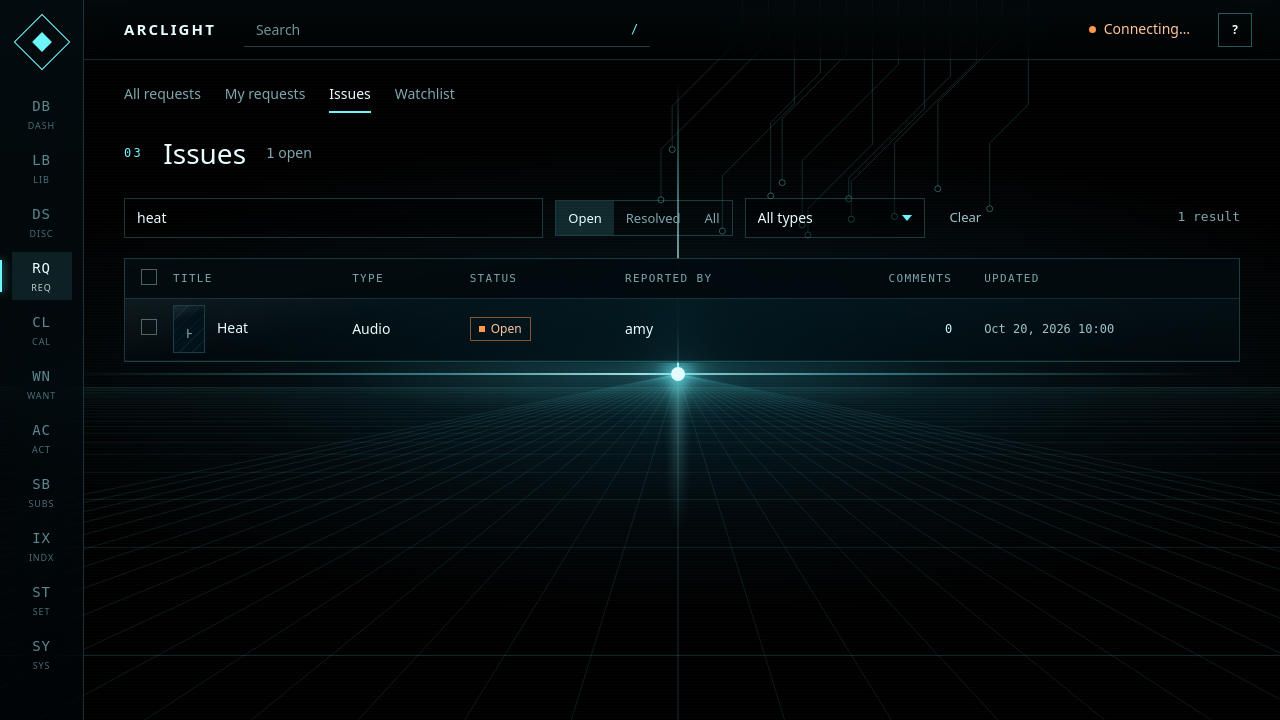
Scenario: issues page search › the filter bar Clear also clears the search; Select all selects the matching rows shown
Expected: the link "Heat" is shown, [217,318,248,338]
Click the checkbox named "Select all rows".
click(149, 277)  # box [141,269,157,285]
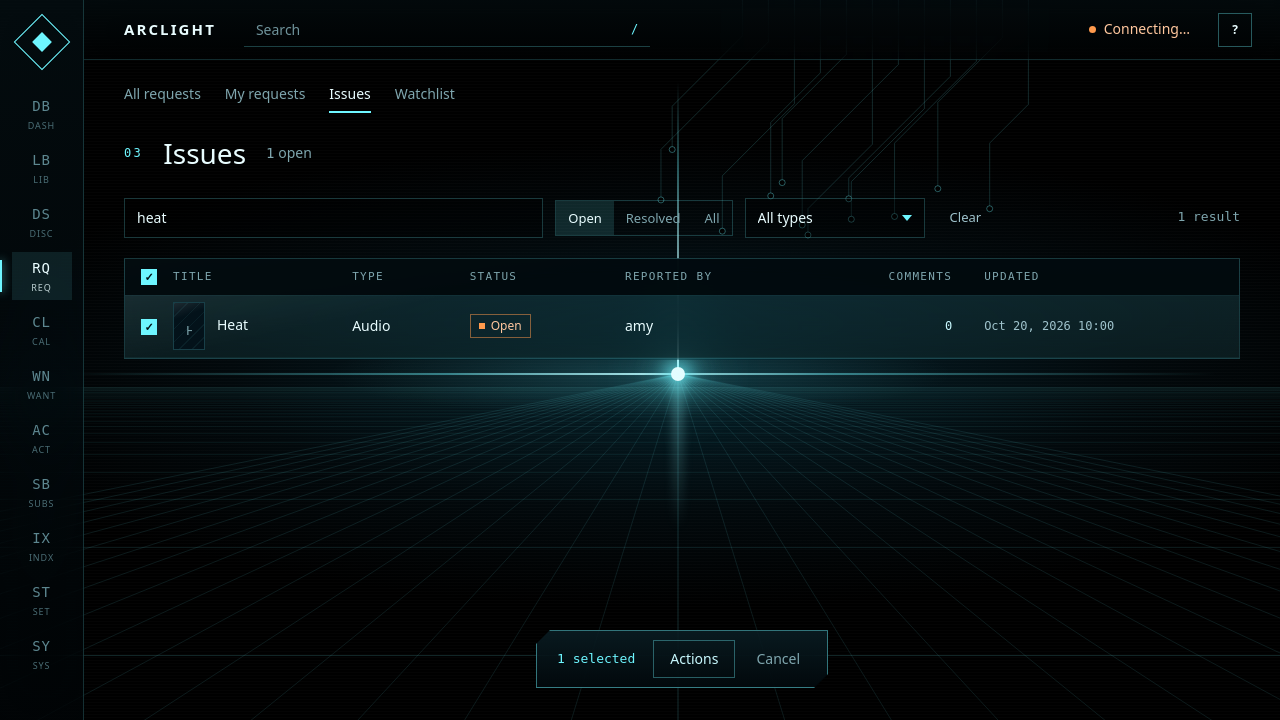
Expected: the text "1 selected" is shown, [557,650,635,668]
Click the button "Clear".
click(965, 218)  # box [937,202,994,234]
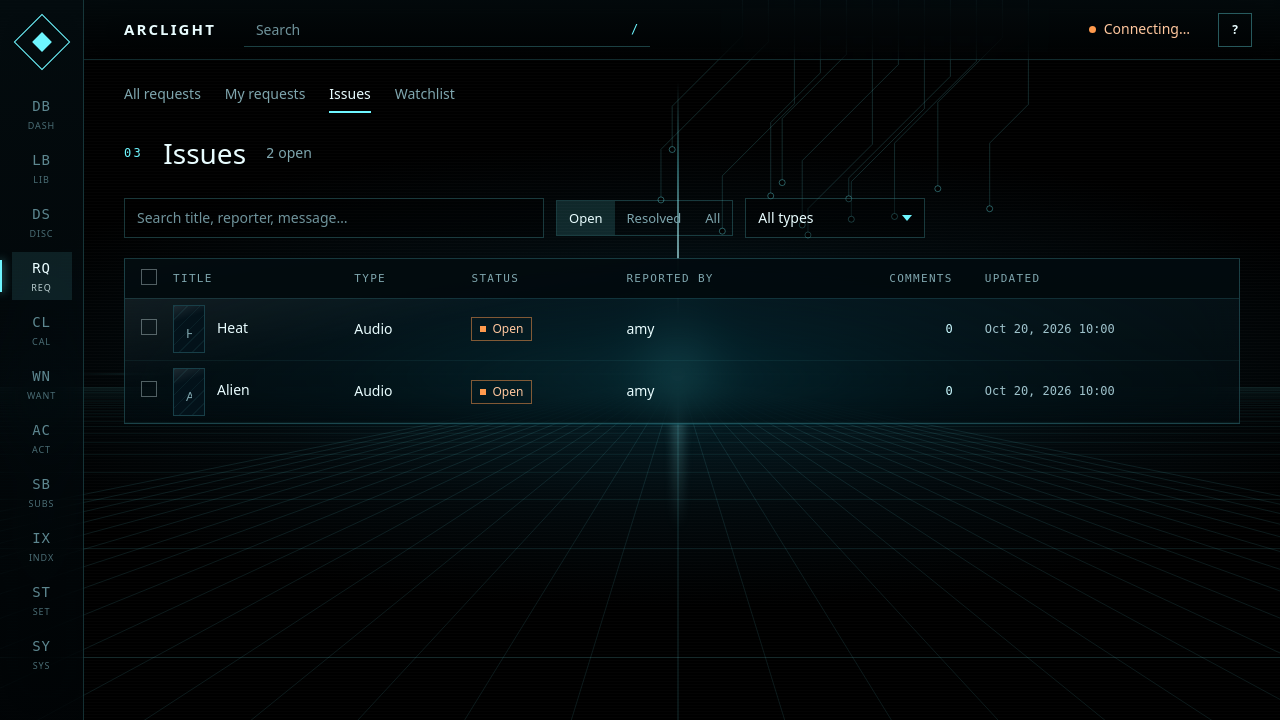
Expected: the link "Alien" is shown, [217,380,250,401]
